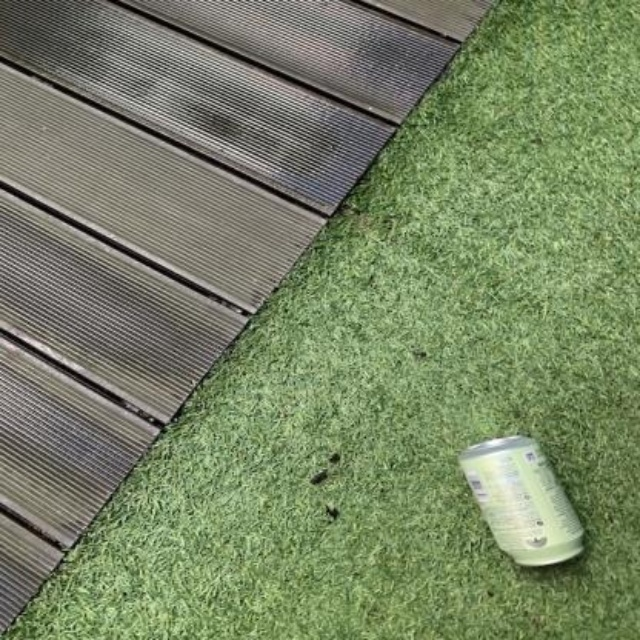trash: (458, 435, 582, 565)
